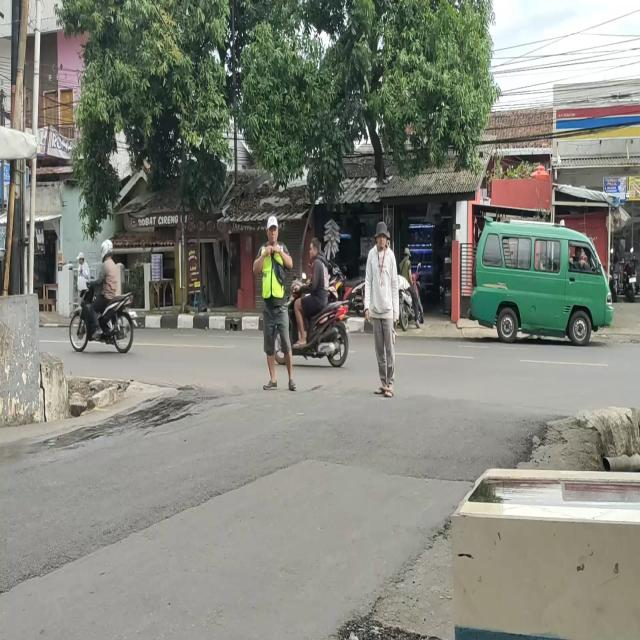helmet: (97, 240, 114, 261)
no-helmet: (307, 234, 324, 263)
